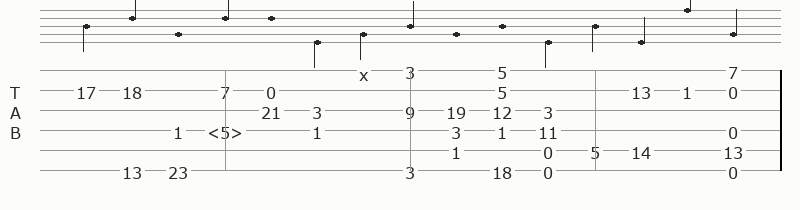0: (266, 82, 280, 98), (543, 162, 557, 178), (543, 142, 557, 158), (728, 162, 742, 178), (728, 82, 742, 98), (728, 122, 742, 138)
1: (173, 122, 187, 138), (312, 122, 326, 138), (451, 142, 465, 158), (497, 122, 511, 138), (682, 82, 696, 98)
11: (538, 122, 562, 138)
12: (492, 102, 516, 118)
13: (122, 162, 146, 178), (631, 82, 655, 98), (723, 142, 747, 158)
14: (631, 142, 655, 158)
17: (76, 82, 100, 98)
18: (122, 82, 146, 98), (492, 162, 516, 178)
19: (446, 102, 470, 118)
21: (261, 102, 285, 118)
23: (168, 162, 192, 178)
3: (312, 102, 326, 118), (405, 62, 419, 78), (405, 162, 419, 178), (451, 122, 465, 138), (543, 102, 557, 118)
5: (497, 82, 511, 98), (497, 62, 511, 78), (590, 142, 604, 158)
7: (220, 82, 234, 98), (728, 62, 742, 78)
9: (405, 102, 419, 118)
harmonic: (207, 122, 247, 138)
x: (359, 64, 372, 77)
